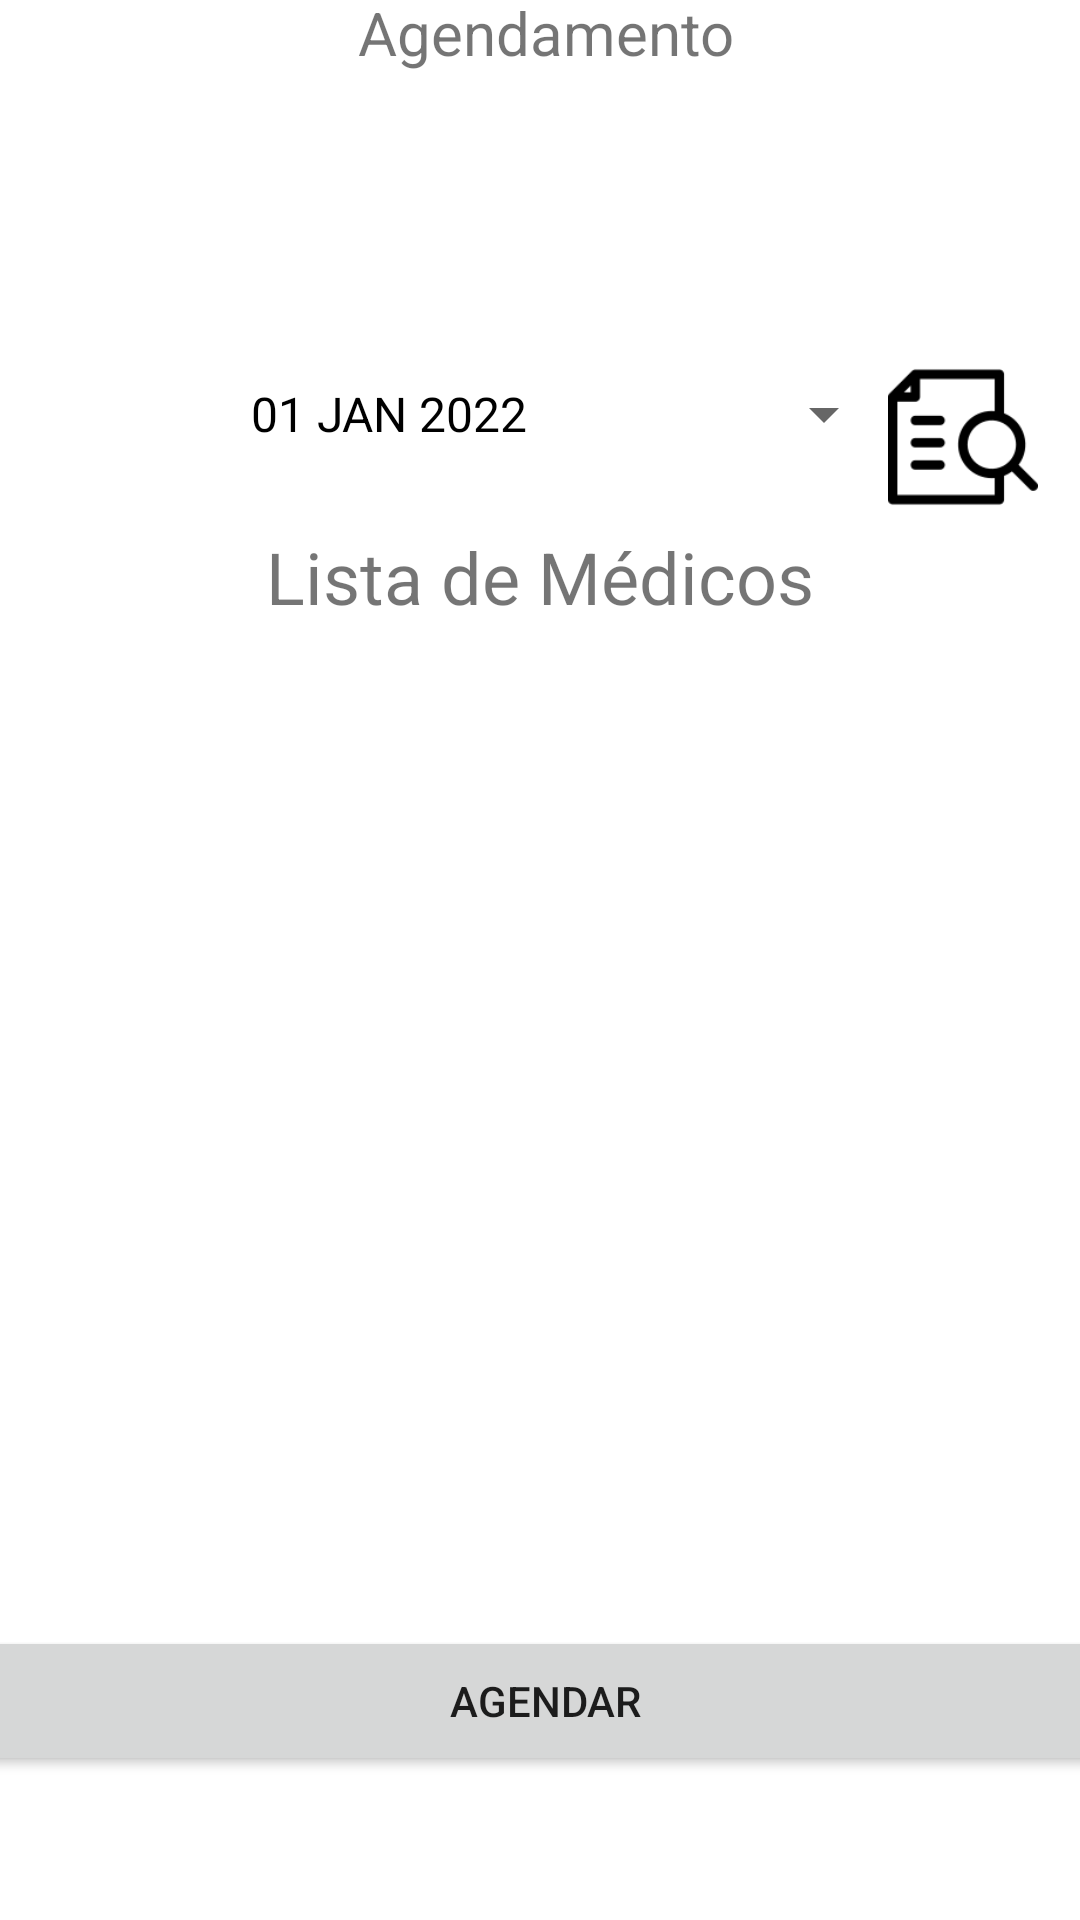

Screen size 1080x1920. Icon name, then its box in pixels as (x1, y1, x2, y2):
Pesquisa: (888, 369, 1038, 505)
